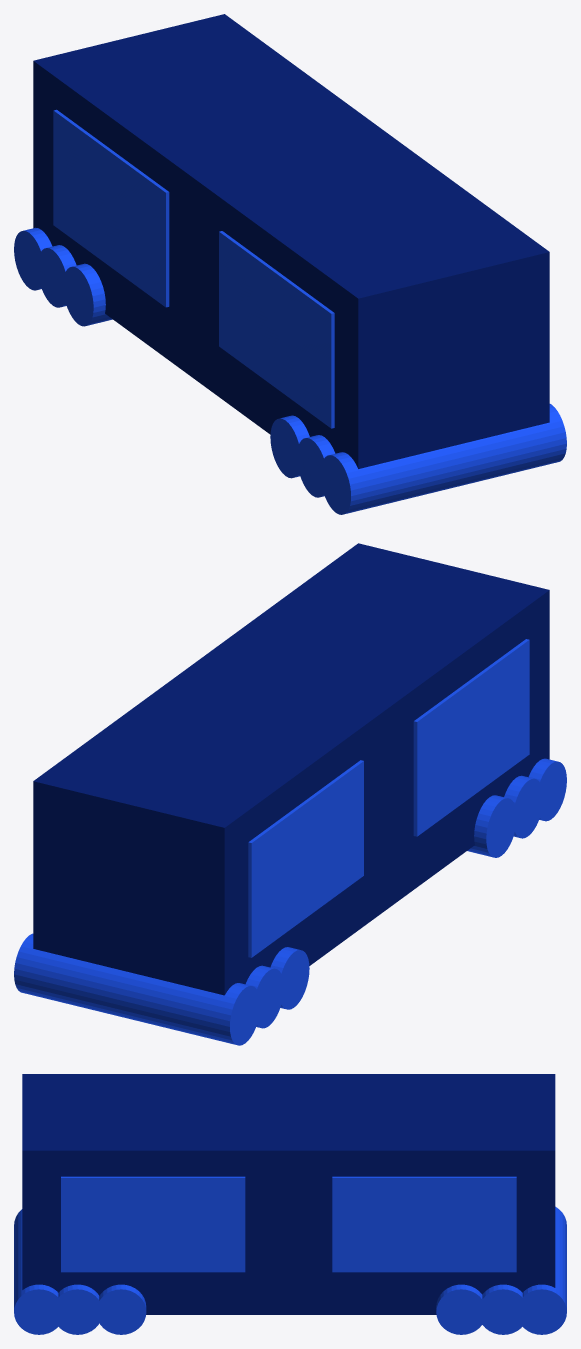
File: train.glb
The picture shows the model from 3 angles, top to bottom: view 1: azimuth 30°, elevation 25°; view 2: azimuth 150°, elevation 25°; view 3: azimuth 270°, elevation 25°; orthographic projection. The views are drawn at different scales.
Parts seen in each view (by area): view 1: Cube_Cube.001, Cube.001_Cube.002, Cube.002_Cube.003, Cylinder.003, Cylinder.004, Cylinder.005, Cylinder, Cylinder.001, Cylinder.006; view 2: Cube_Cube.001, Cube.002_Cube.003, Cube.001_Cube.002, Cylinder.001, Cylinder.005, Cylinder.006, Cylinder, Cylinder.003, Cylinder.004; view 3: Cube_Cube.001, Cube.001_Cube.002, Cube.002_Cube.003, Cylinder.001, Cylinder.003, Cylinder.005, Cylinder, Cylinder.004, Cylinder.006.
Part boxes in pixels (x1,y1,x2,y2): Cube_Cube.001: (33, 14, 549, 468); Cube.001_Cube.002: (53, 109, 169, 307); Cube.002_Cube.003: (219, 231, 334, 428); Cylinder.003: (320, 404, 566, 514); Cylinder.004: (63, 263, 112, 326); Cylinder.005: (270, 415, 309, 478); Cylinder: (37, 245, 76, 307); Cylinder.001: (14, 227, 52, 290); Cylinder.006: (297, 435, 335, 497); Cube_Cube.001: (33, 543, 549, 995); Cube.002_Cube.003: (413, 639, 529, 836); Cube.001_Cube.002: (248, 760, 363, 957); Cylinder.001: (14, 933, 260, 1045); Cylinder.005: (467, 795, 515, 857); Cylinder.006: (504, 775, 542, 838); Cylinder: (245, 965, 283, 1028); Cylinder.003: (528, 758, 566, 821); Cylinder.004: (270, 947, 309, 1009); Cube_Cube.001: (22, 1074, 555, 1314); Cube.001_Cube.002: (332, 1176, 516, 1272); Cube.002_Cube.003: (61, 1176, 245, 1272); Cylinder.001: (518, 1206, 566, 1334); Cylinder.003: (14, 1209, 64, 1334); Cylinder.005: (96, 1284, 146, 1334); Cylinder: (478, 1284, 528, 1334); Cylinder.004: (436, 1284, 485, 1334); Cylinder.006: (52, 1284, 102, 1334).
Bounding box in the file's own units: 2.44 × 2.36 × 6.6.
